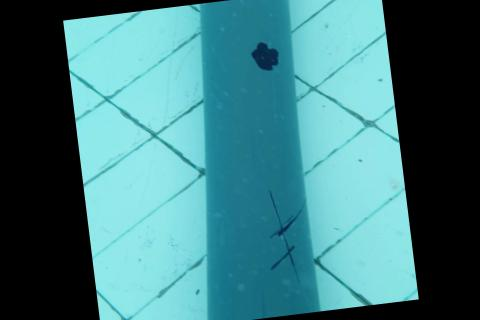kebocoran: (247, 38, 282, 75)
keretakan: (256, 185, 313, 290)
